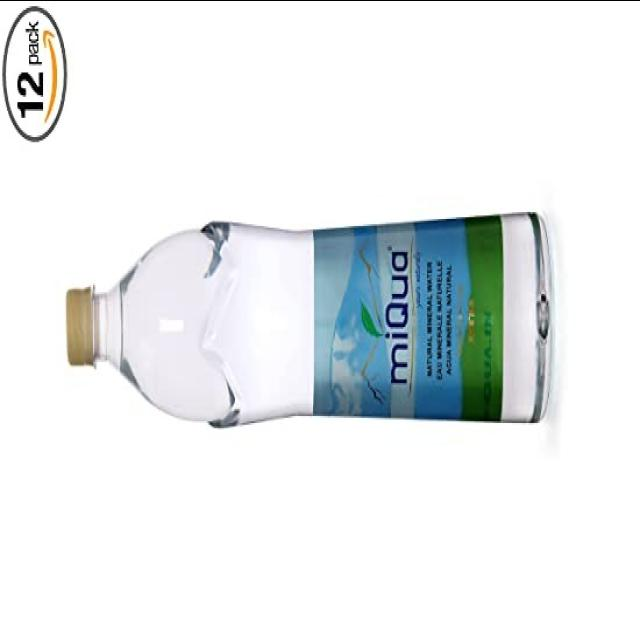bottle: (43, 102, 579, 487)
